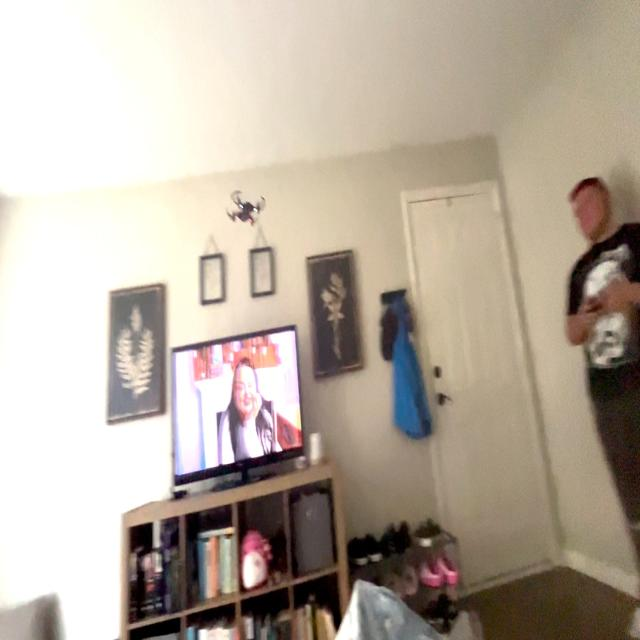drone: (217, 170, 273, 249)
